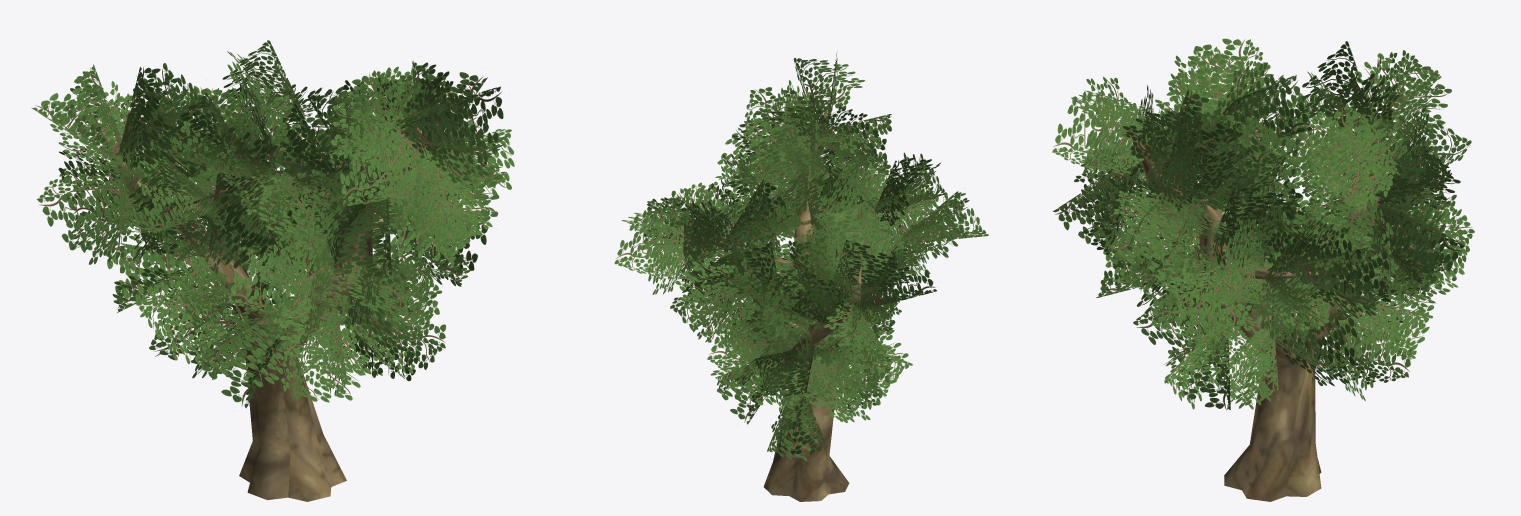
The model's file is Tree.glb.
3 views of the same model, side by side, from view 1: azimuth 30°, elevation 25°; view 2: azimuth 150°, elevation 25°; view 3: azimuth 270°, elevation 25° (orthographic). The views are drawn at different scales.
Parts seen in each view (by area): view 1: Cylinder; view 2: Cylinder; view 3: Cylinder.
Part boxes in pixels (<box>): Cylinder: <box>31,40,514,501</box>; Cylinder: <box>614,51,988,501</box>; Cylinder: <box>1052,38,1474,501</box>.
Size of the model in its own units: 7.73 by 7.96 by 7.48.
2 materials, 2 textured.
